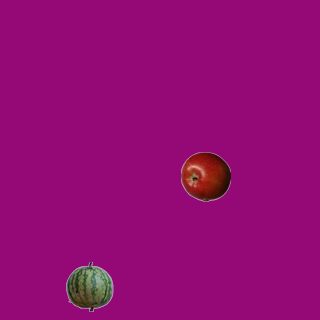Apple Braeburn: (180, 151, 230, 201)
Watermelon: (64, 261, 114, 311)
